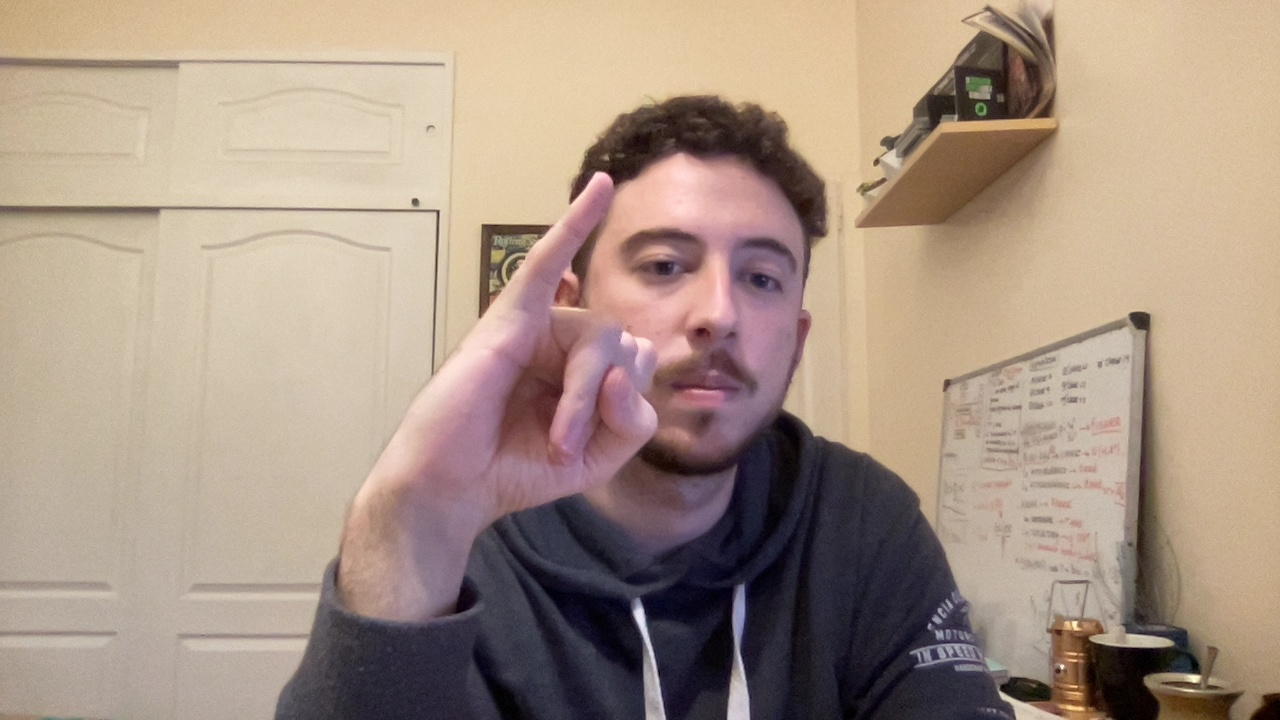menique: (334, 151, 667, 575)
